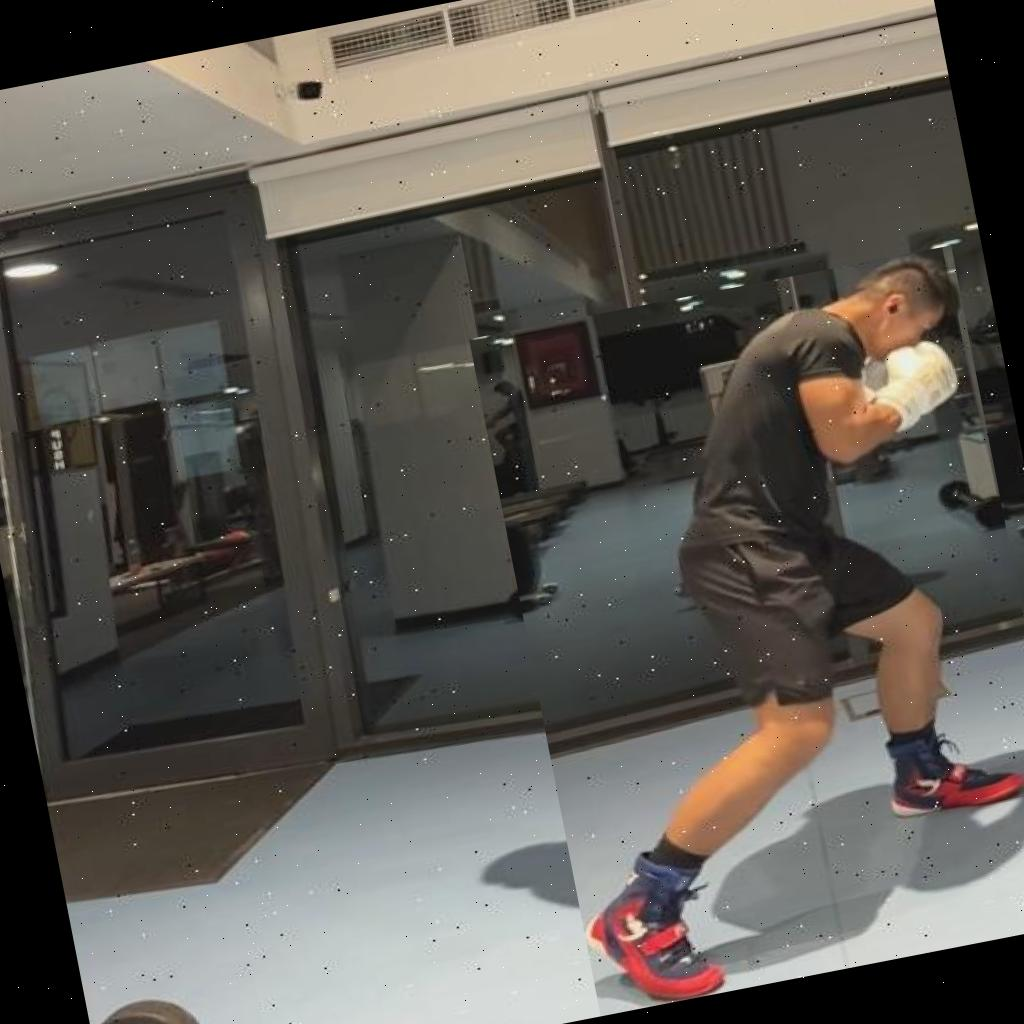no punch: (469, 245, 1024, 1016)
